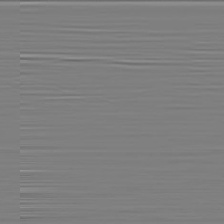cavities: (115, 66, 195, 133)
